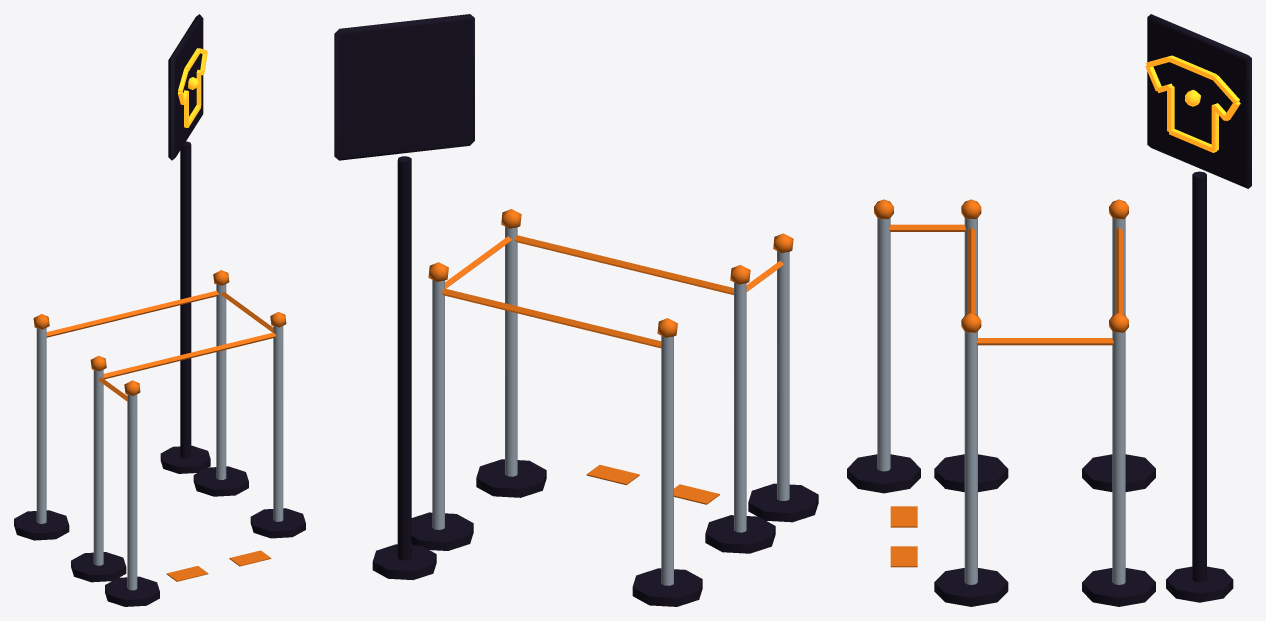
The model's file is station_special_ausstattung_3_3.glb.
The picture shows the model from 3 angles, left to right: view 1: azimuth 30°, elevation 25°; view 2: azimuth 150°, elevation 25°; view 3: azimuth 270°, elevation 25°; orthographic projection. The views are drawn at different scales.
Visible parts, largest first — view 1: station_special_ausstattung_3_3; view 2: station_special_ausstattung_3_3; view 3: station_special_ausstattung_3_3.
Boxes of the visible parts, x1,y1,x2,y2 form: station_special_ausstattung_3_3: [14, 14, 305, 606]; station_special_ausstattung_3_3: [334, 14, 818, 606]; station_special_ausstattung_3_3: [847, 14, 1251, 606].
Size of the model in its own units: 1.05 by 1.82 by 1.21.
